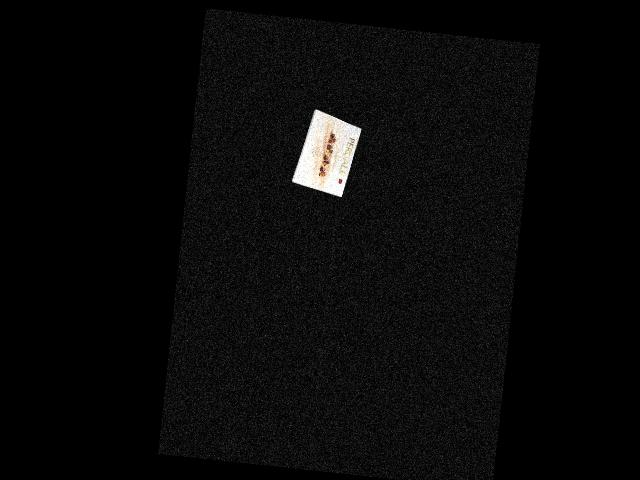chocolate: (288, 111, 361, 195)
